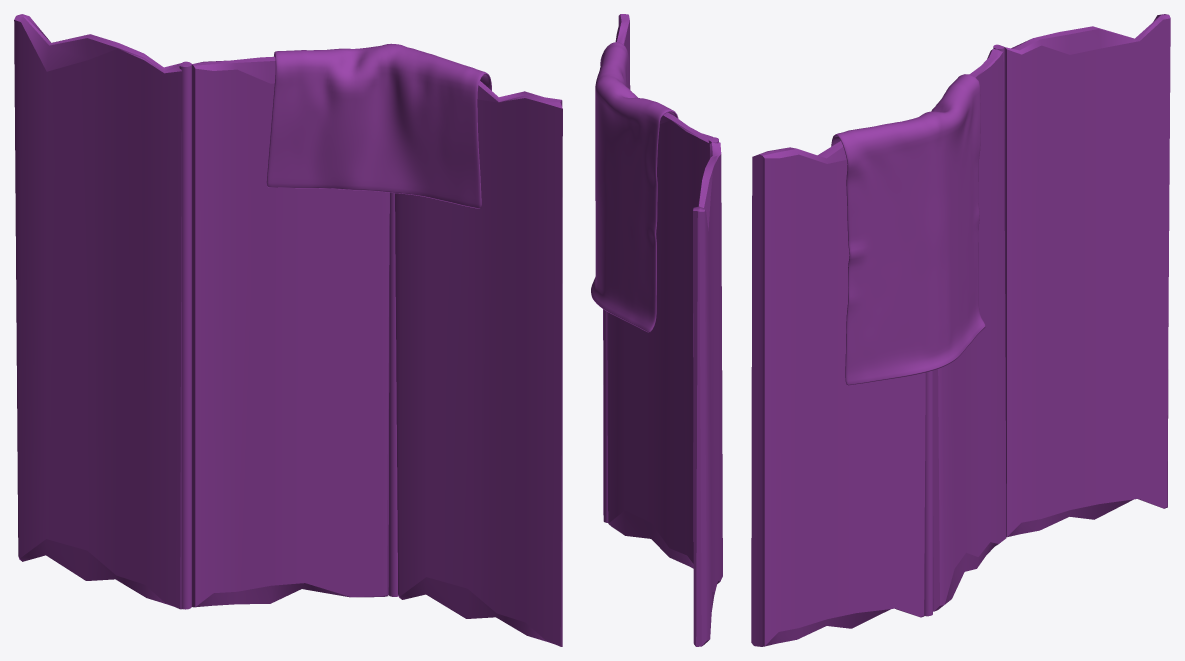
File: paravent.fbx
The picture shows the model from 3 angles, left to right: view 1: azimuth 30°, elevation 25°; view 2: azimuth 150°, elevation 25°; view 3: azimuth 270°, elevation 25°; orthographic projection. The views are drawn at different scales.
Visible parts, largest first — view 1: paravent; view 2: paravent; view 3: paravent.
Boxes of the visible parts, x1=… form: paravent: x1=14, y1=14, x2=562, y2=646; paravent: x1=591, y1=14, x2=722, y2=646; paravent: x1=751, y1=14, x2=1170, y2=646.
Bounding box in the file's own units: 14.92 × 23.87 × 18.21.
